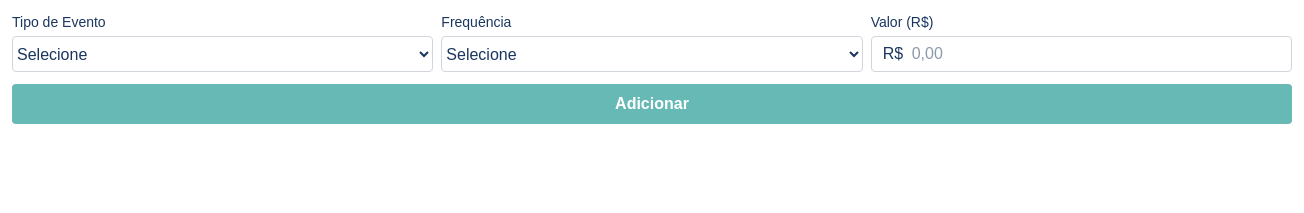
Scenario: EventForm › should show year field when frequency is "unica"
The width and height of the screenshot is (1304, 213).
Select "Única" in the dropdown below "Frequência" at [652, 54], box [441,36,863,72]
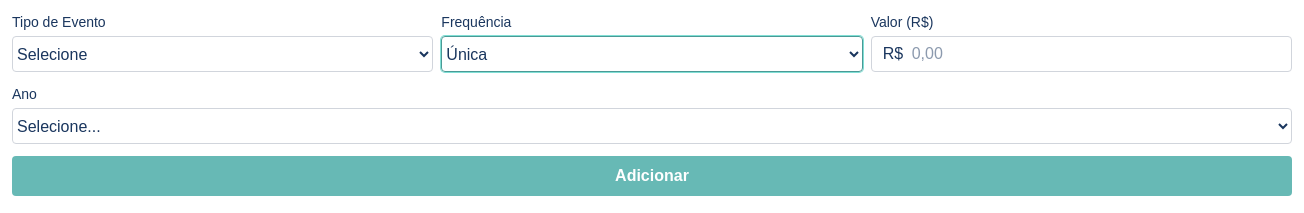
Result: the text "Ano" is shown at [12,86,37,102]
